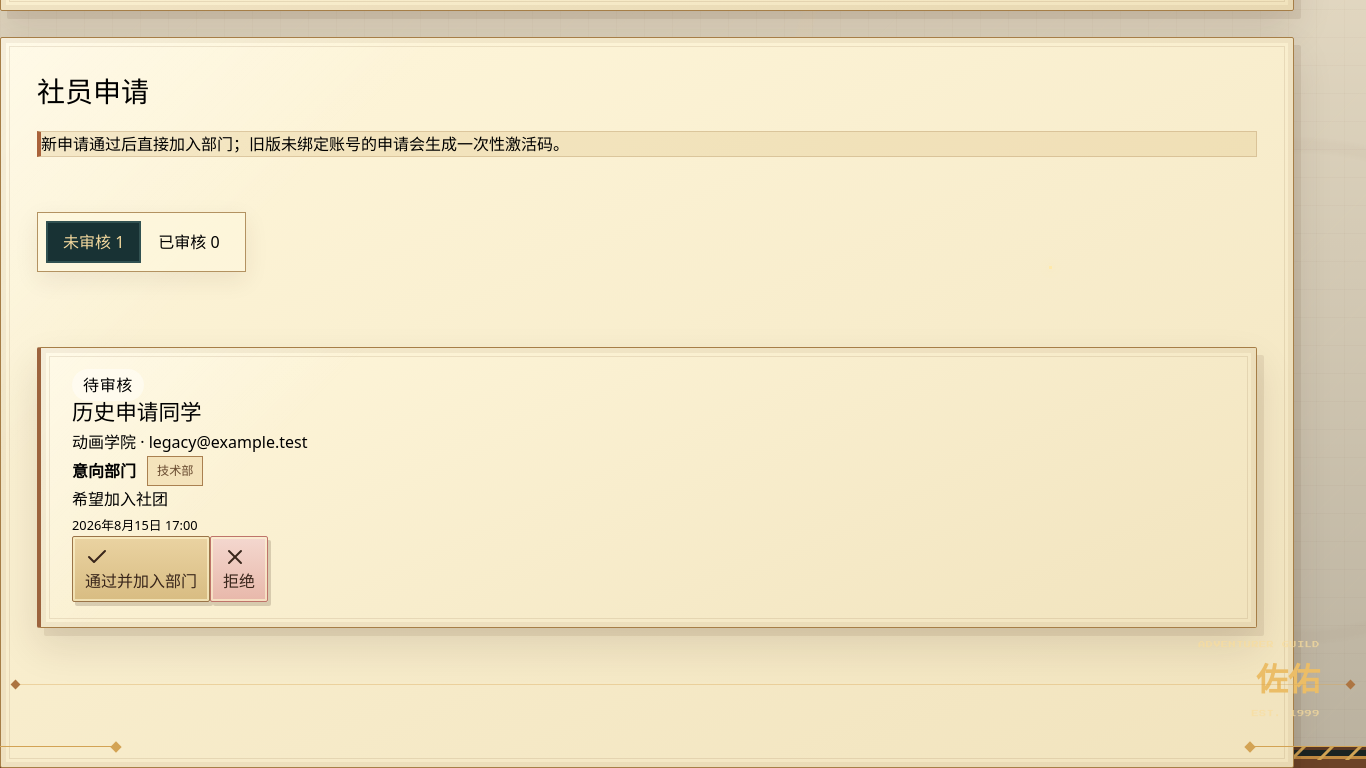
it: Adventurer Guild app › shows an application approval error inside the affected member card
(page scrolled)
Click the button "通过并加入部门".
click(141, 569)  # box [72,536,210,602]
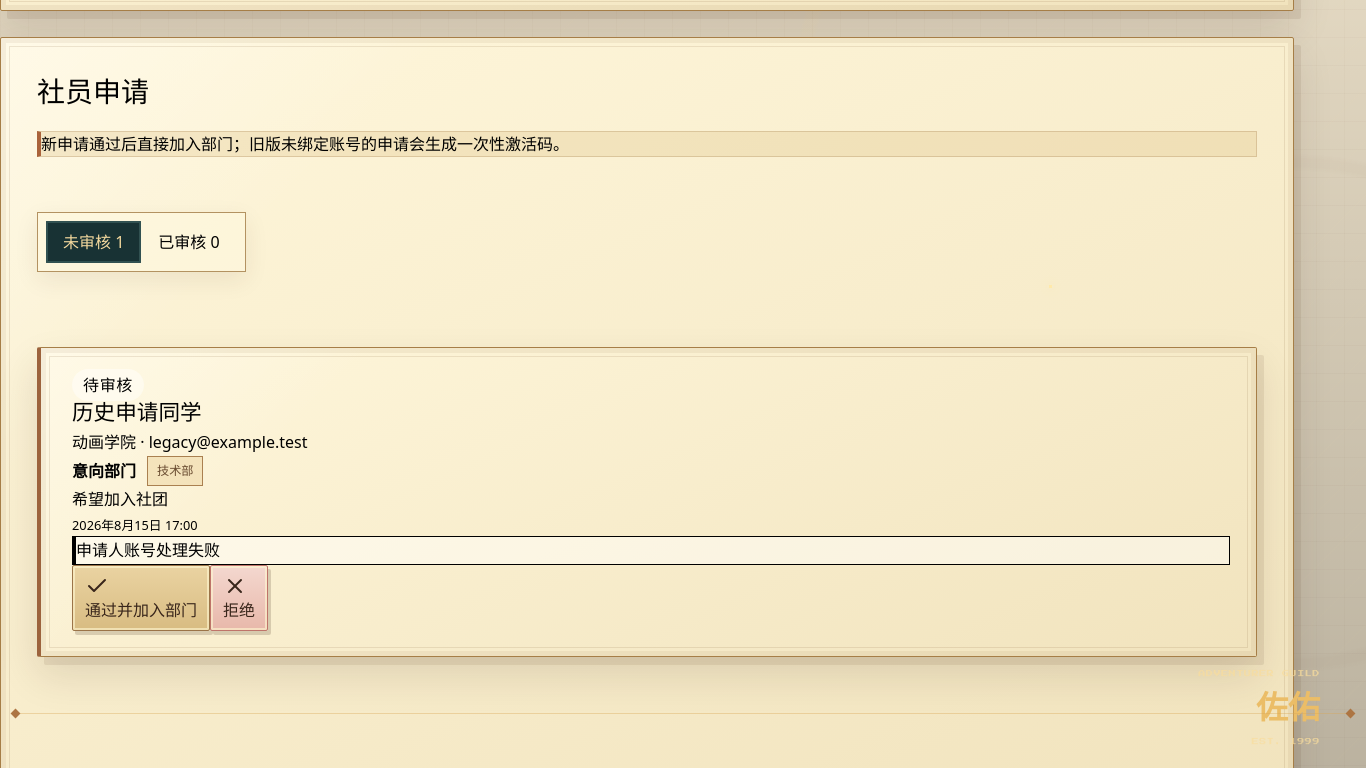
Check: the message reads "申请人账号处理失败", box [76,539,220,561]
